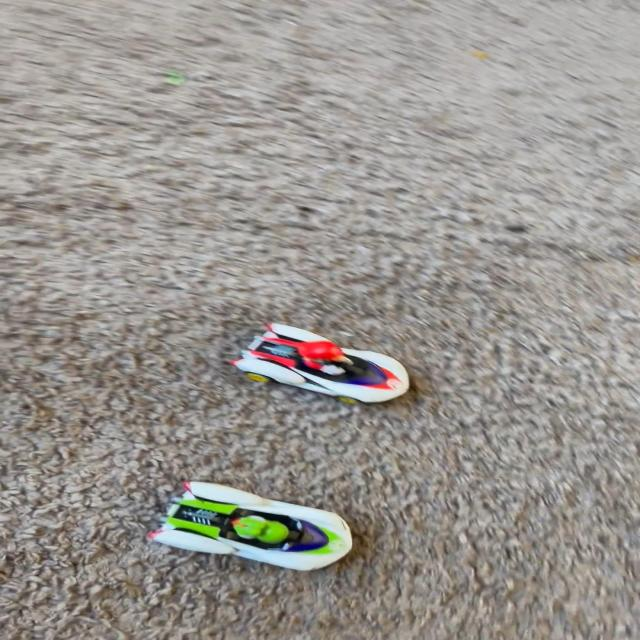mario: (231, 318, 425, 412)
yoshi: (141, 472, 369, 583)
